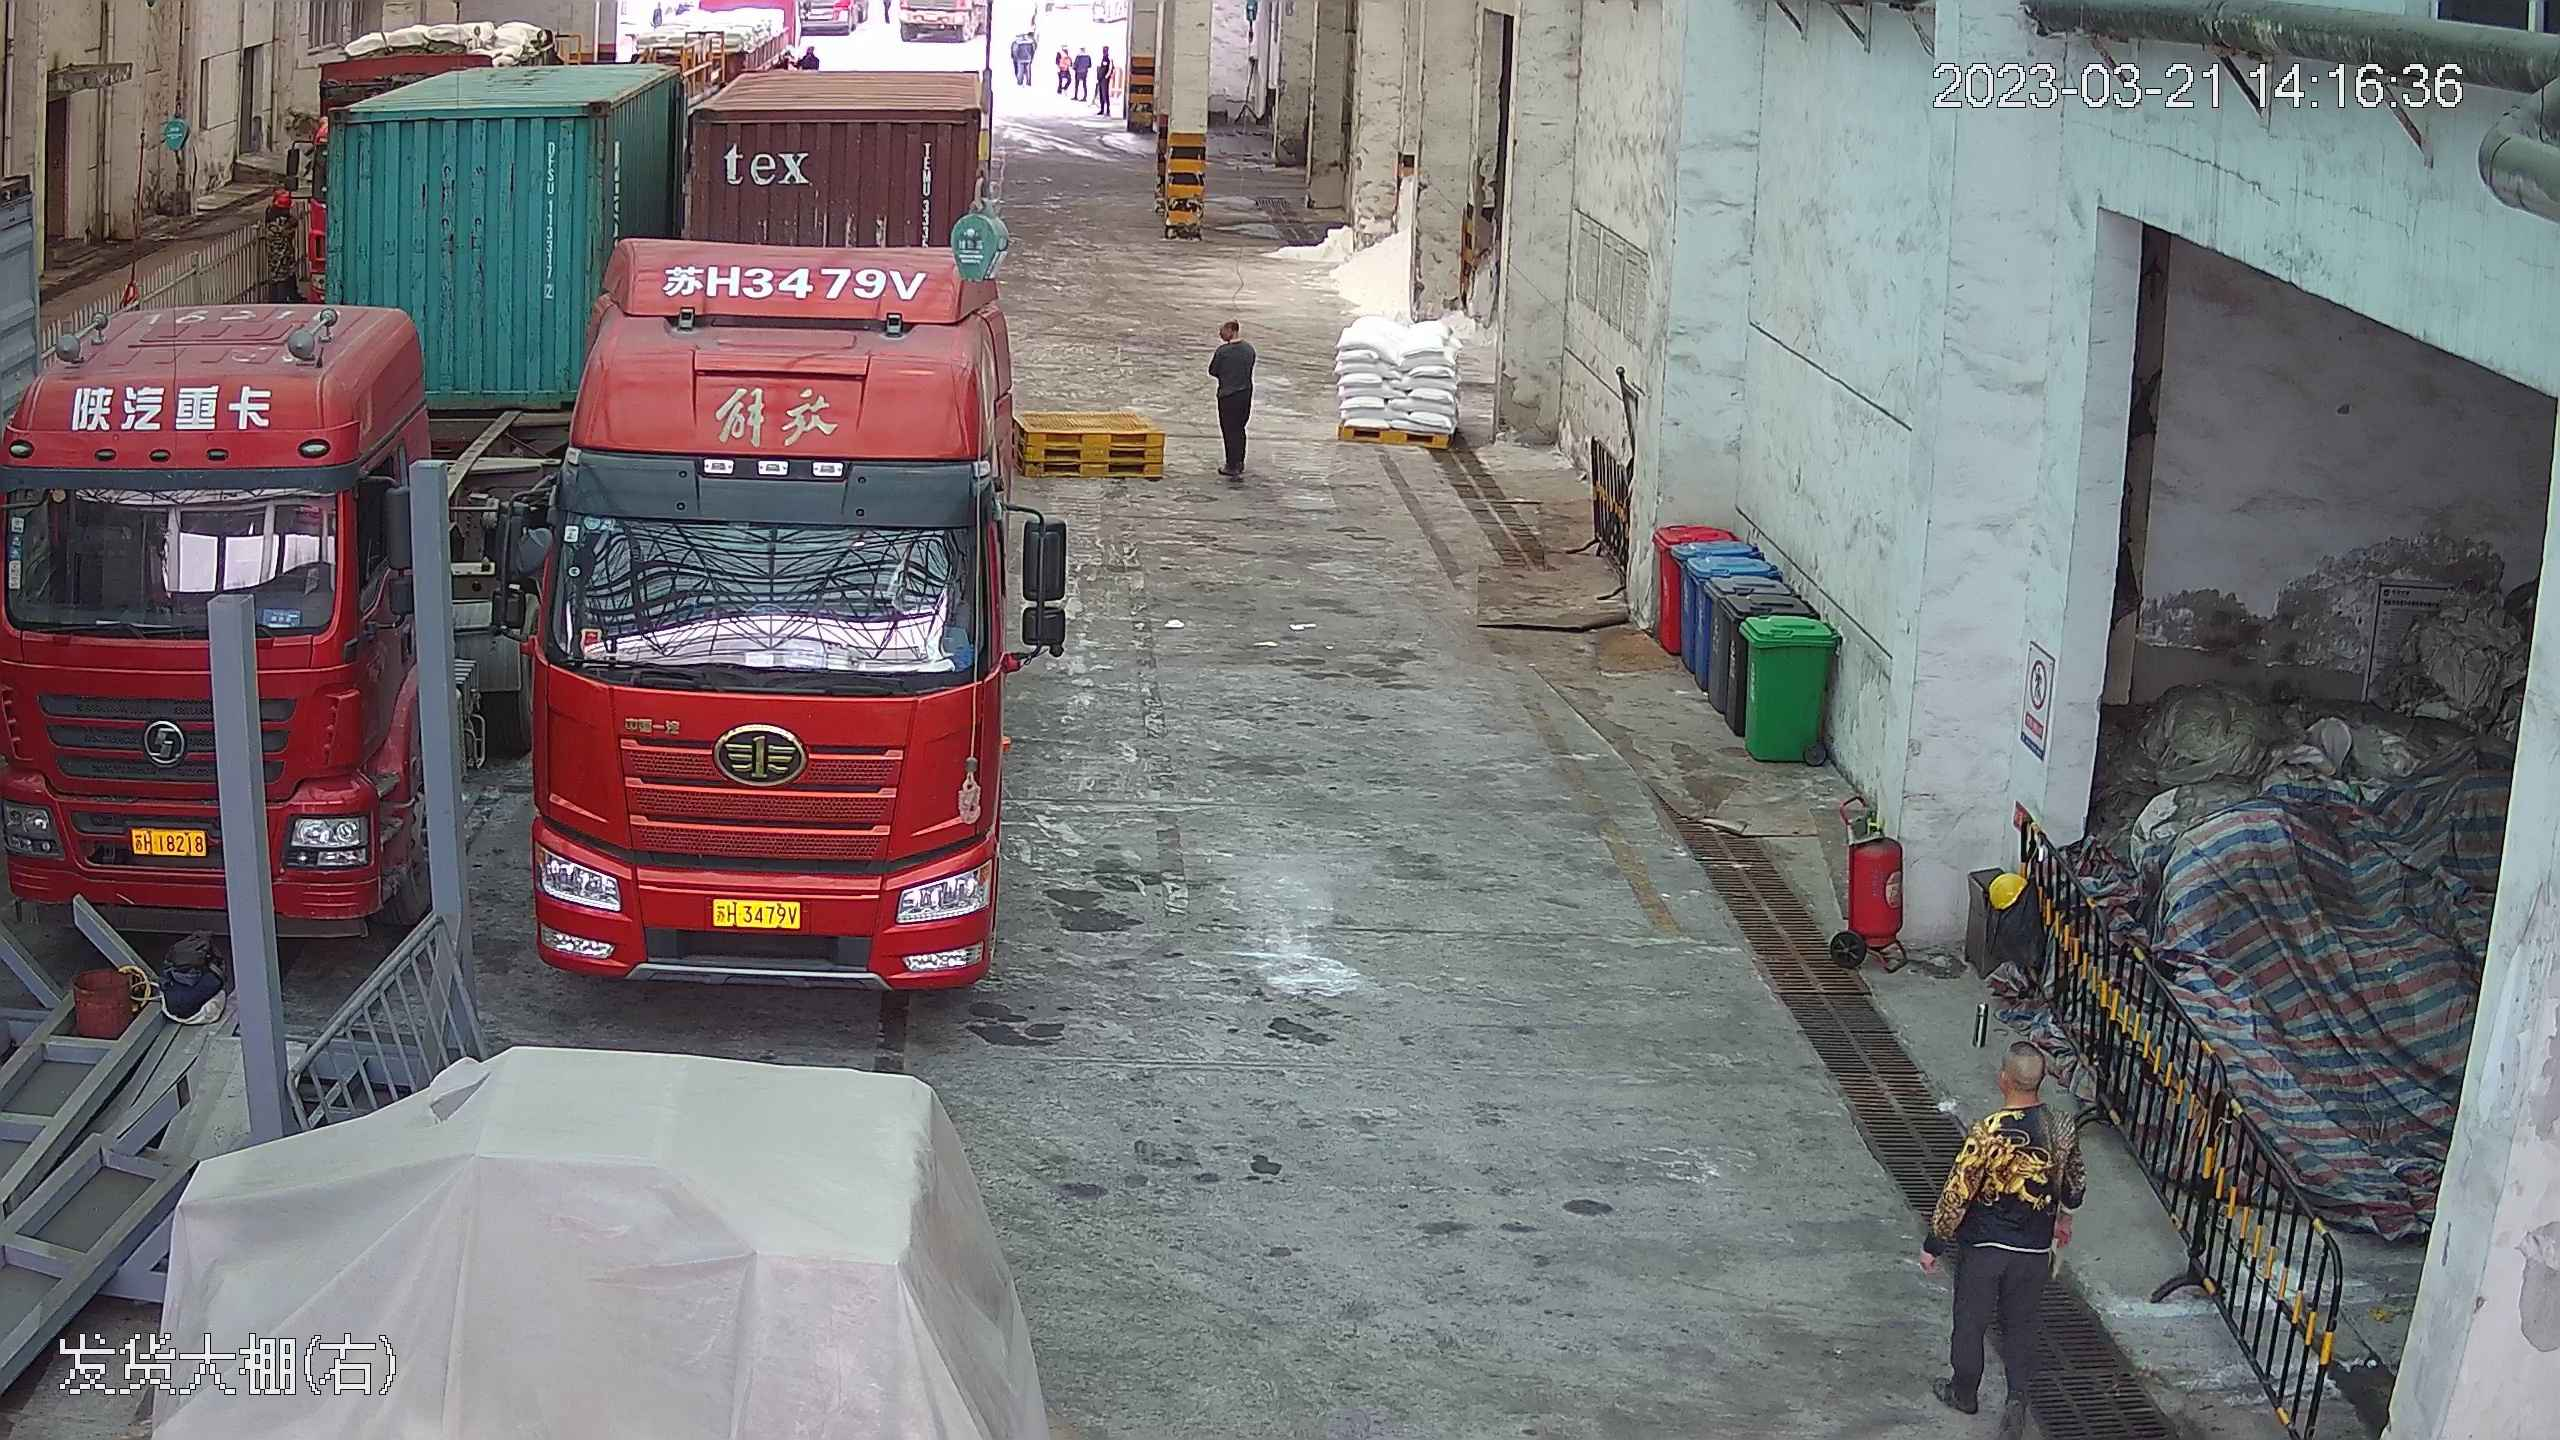head: (1962, 1037, 2085, 1194), (1208, 312, 1257, 368)
people: (1928, 1041, 2087, 1435), (1204, 311, 1262, 480), (1095, 40, 1117, 118), (1048, 43, 1073, 95), (1073, 42, 1092, 103)
truck: (503, 19, 1043, 994), (3, 47, 466, 953)
